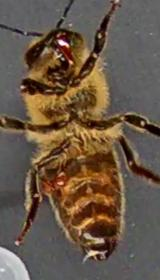varroa_mite: (49, 164, 74, 190)
